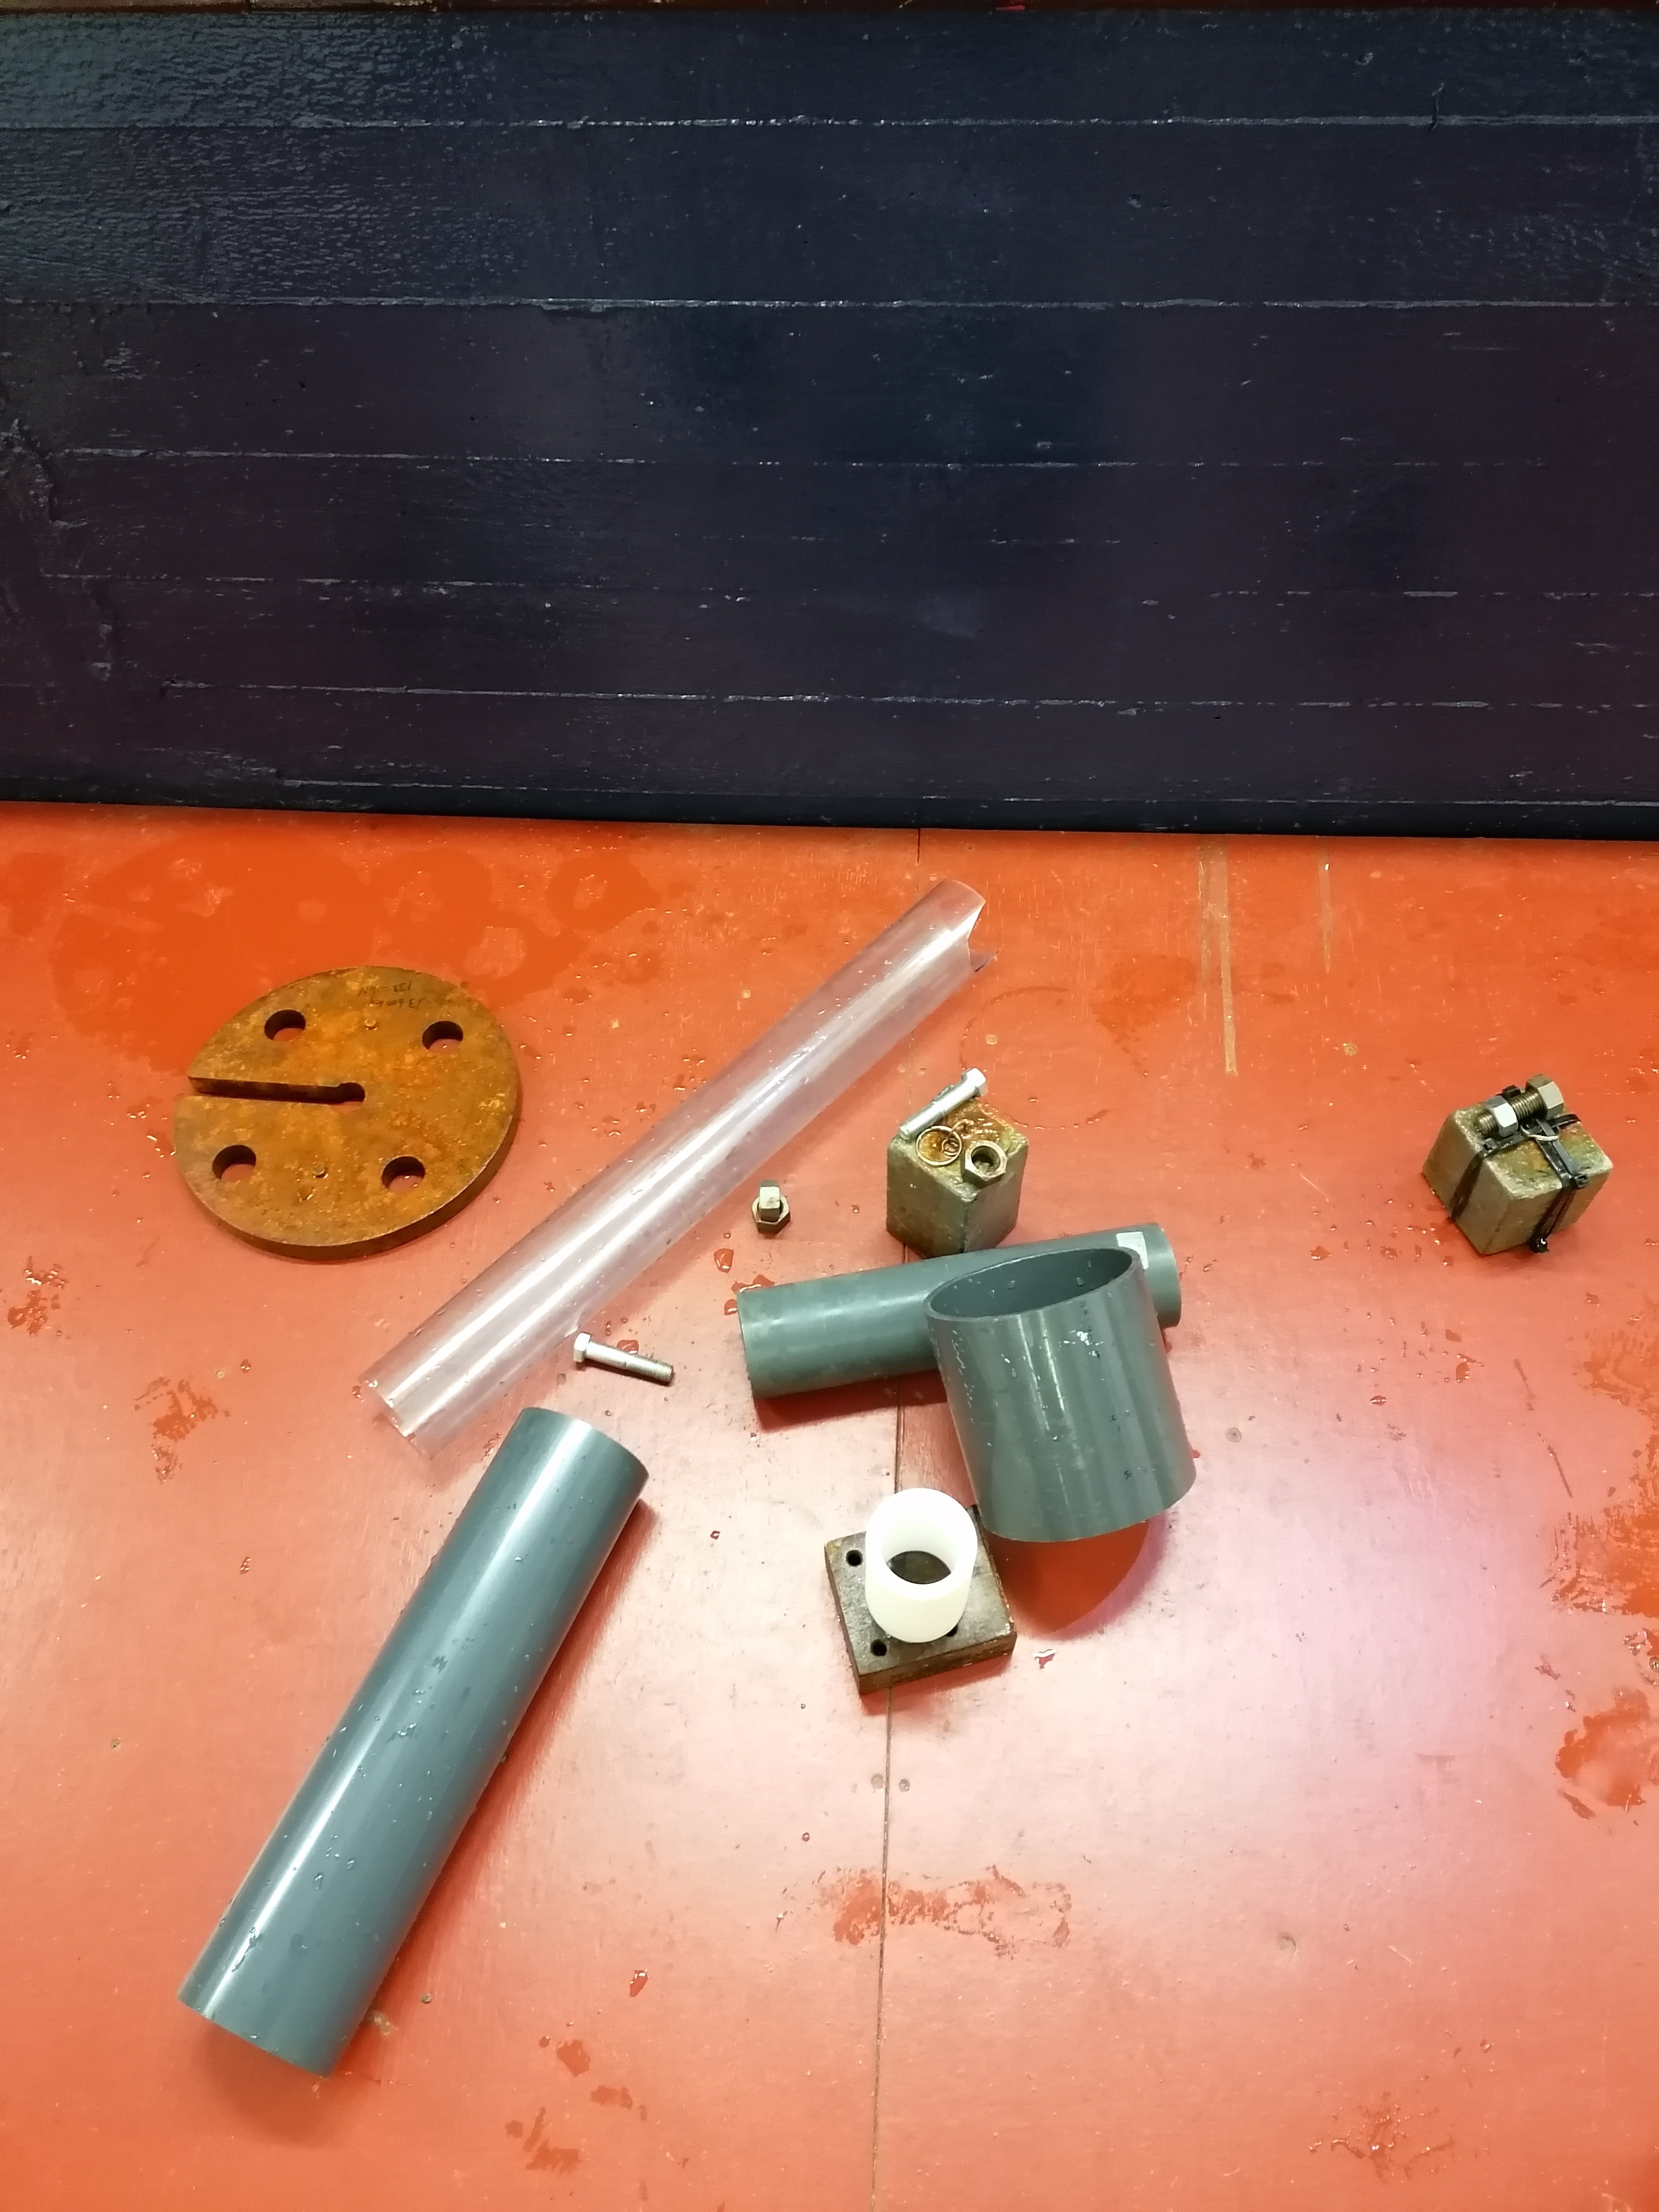bolt: (897, 1066, 986, 1141), (572, 1331, 674, 1385), (1476, 1071, 1563, 1132)
flange: (173, 965, 525, 1263)
led_block: (821, 1503, 1016, 1696), (1422, 1085, 1614, 1256), (885, 1085, 1028, 1254)
nut: (960, 1139, 1007, 1186), (751, 1193, 791, 1233), (1481, 1096, 1518, 1136), (758, 1179, 781, 1223)
pipe: (359, 876, 999, 1461), (179, 1407, 650, 2080), (924, 1247, 1201, 1536), (739, 1221, 1183, 1400), (864, 1486, 978, 1644)
